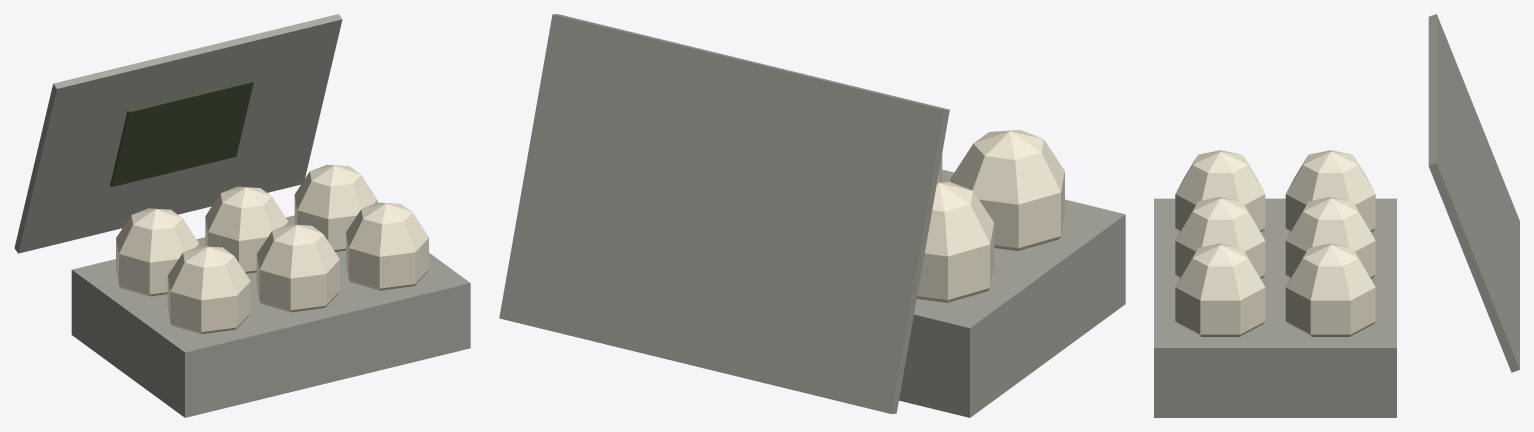
Rendered from g-eggs.glb.
3 renders of one model, left to right at view 1: azimuth 30°, elevation 25°; view 2: azimuth 150°, elevation 25°; view 3: azimuth 270°, elevation 25°, orthographic. The views are drawn at different scales.
Visible parts, largest first — view 1: g_eggs; view 2: g_eggs; view 3: g_eggs.
Boxes of the visible parts, bbox=[...] form: g_eggs: bbox=[14, 14, 470, 417]; g_eggs: bbox=[499, 14, 1125, 417]; g_eggs: bbox=[1154, 14, 1519, 417].
Size of the model in its own units: 0.16 by 0.1274 by 0.1657.
